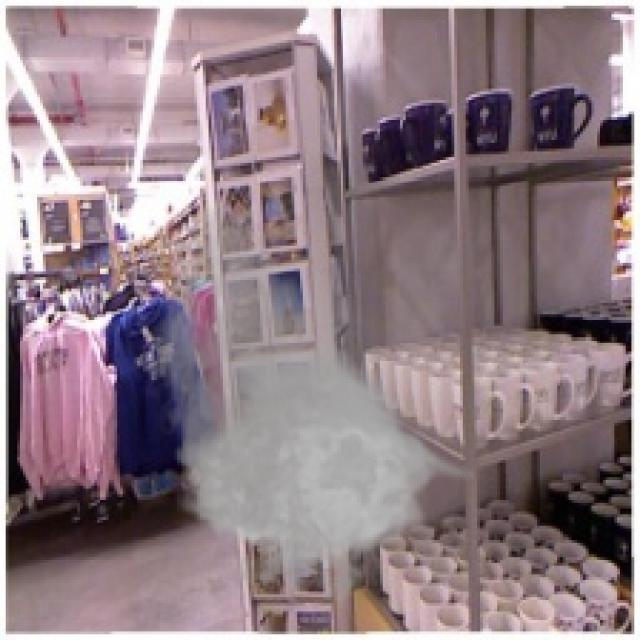Smoke: (140, 197, 483, 617)
